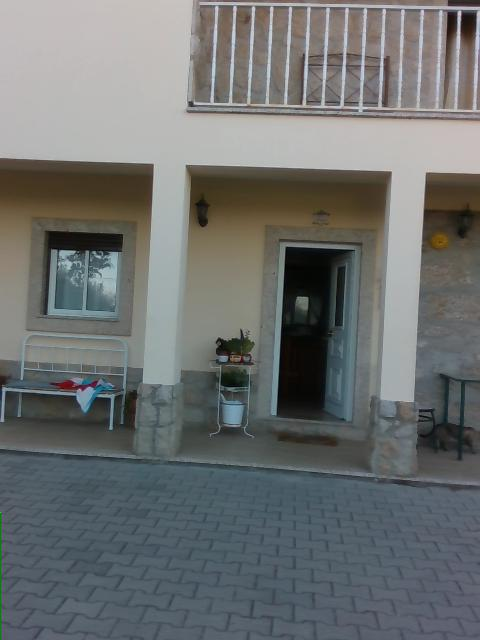door: (324, 249, 355, 420)
